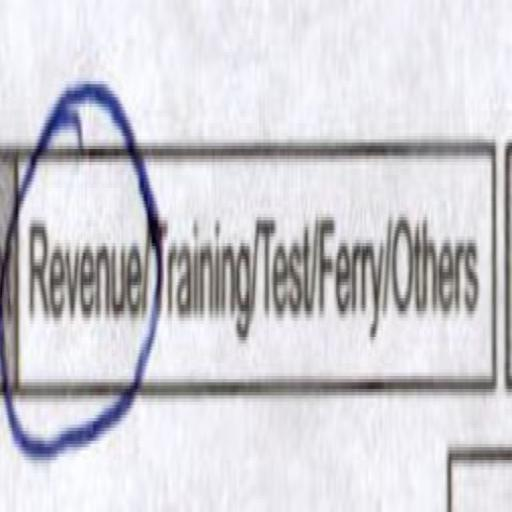check: (22, 102, 146, 463)
